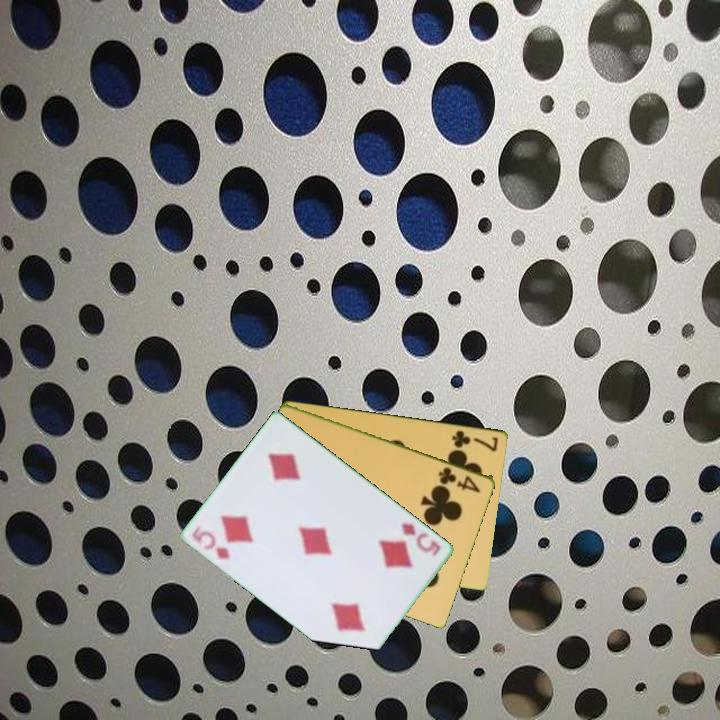4c: (435, 463, 484, 495)
5d: (397, 519, 444, 560), (189, 523, 233, 563)
7c: (449, 426, 501, 454)
